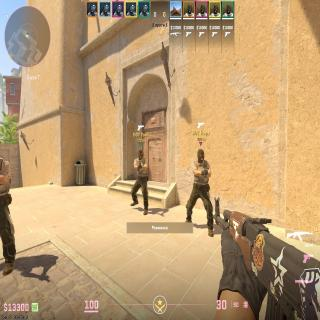T-Body: (187, 149, 212, 238), (0, 158, 15, 275), (130, 149, 150, 216)
T-Head: (197, 149, 204, 163), (138, 149, 143, 160)
